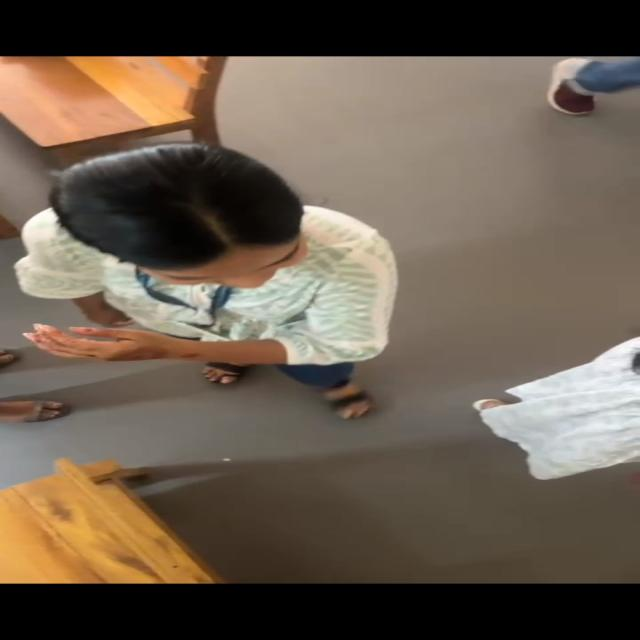humans: (3, 143, 450, 442)
